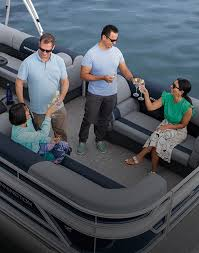boat: (1, 1, 198, 253)
